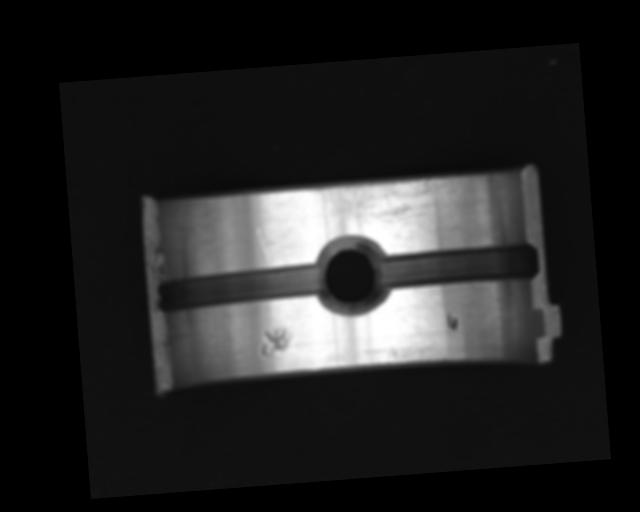blot: (446, 310, 458, 333)
bruise: (258, 326, 294, 359)
gap: (155, 262, 325, 315), (375, 243, 540, 292)
hole: (311, 234, 392, 317)
nick: (256, 226, 272, 267)
scratch: (308, 174, 464, 229)
